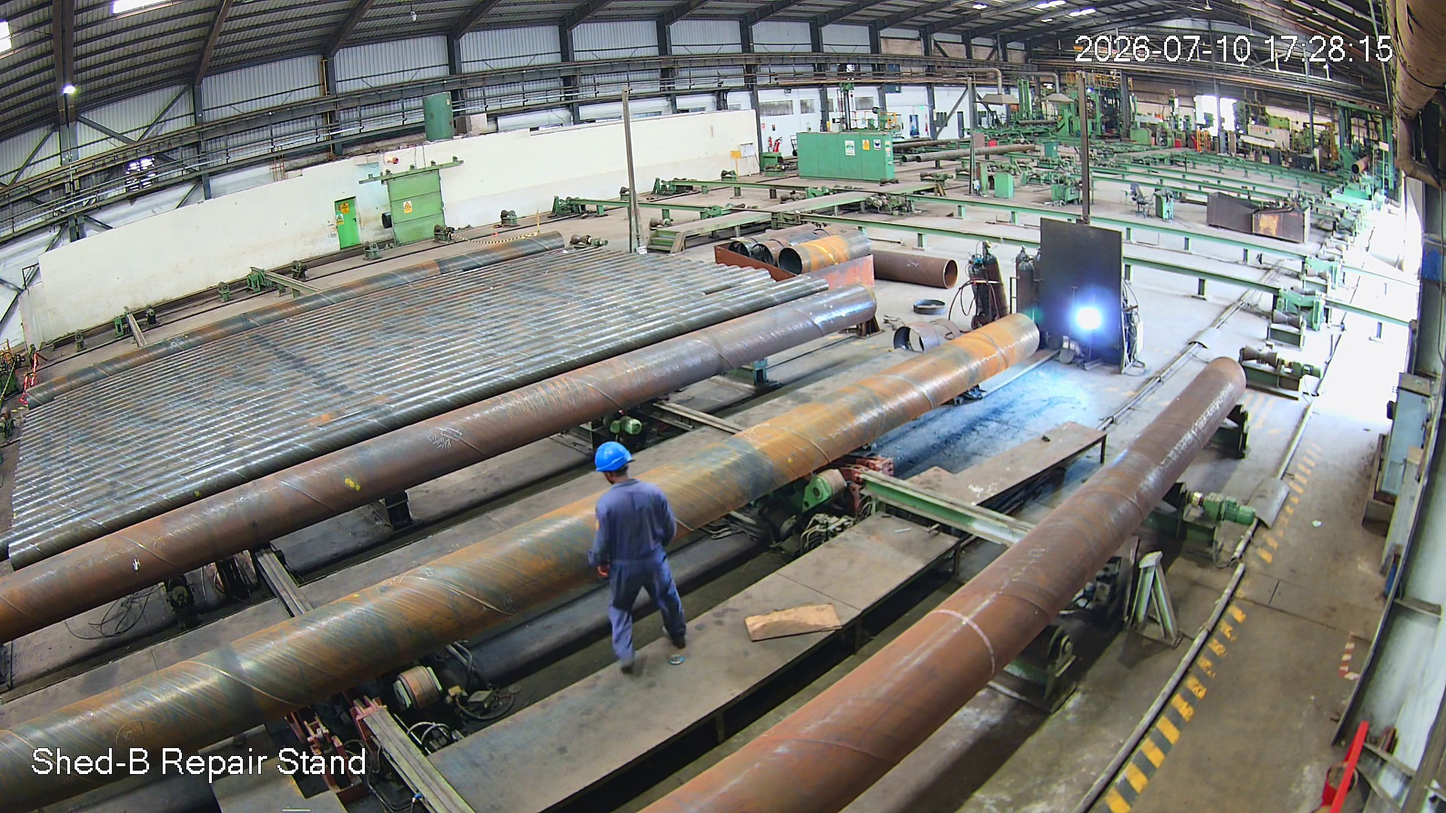Helmet: (590, 433, 644, 497)
Person: (588, 441, 704, 662)
